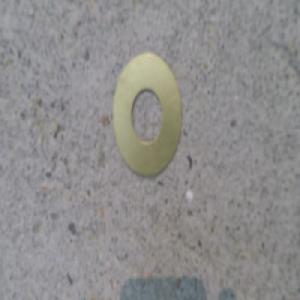Washer: (111, 53, 183, 178)
